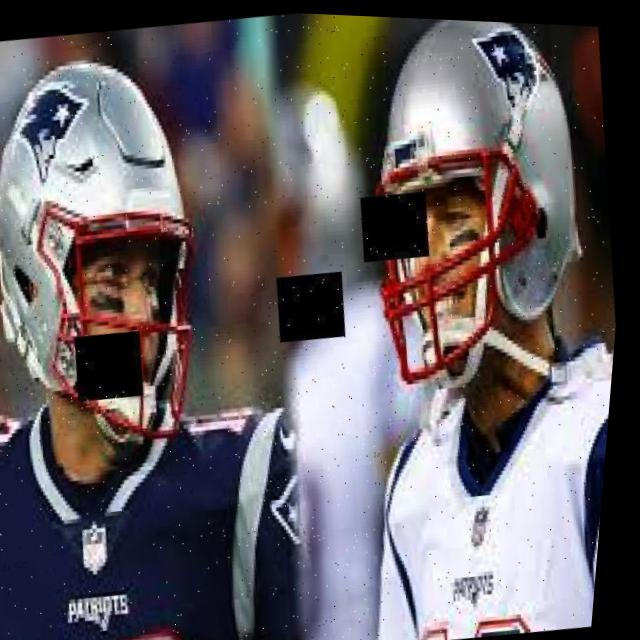helmet: (342, 13, 624, 394), (0, 44, 237, 465)
